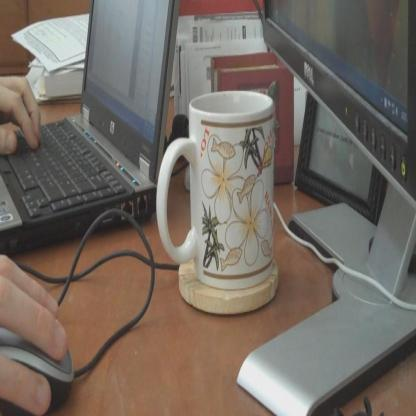board: (0, 0, 180, 252)
